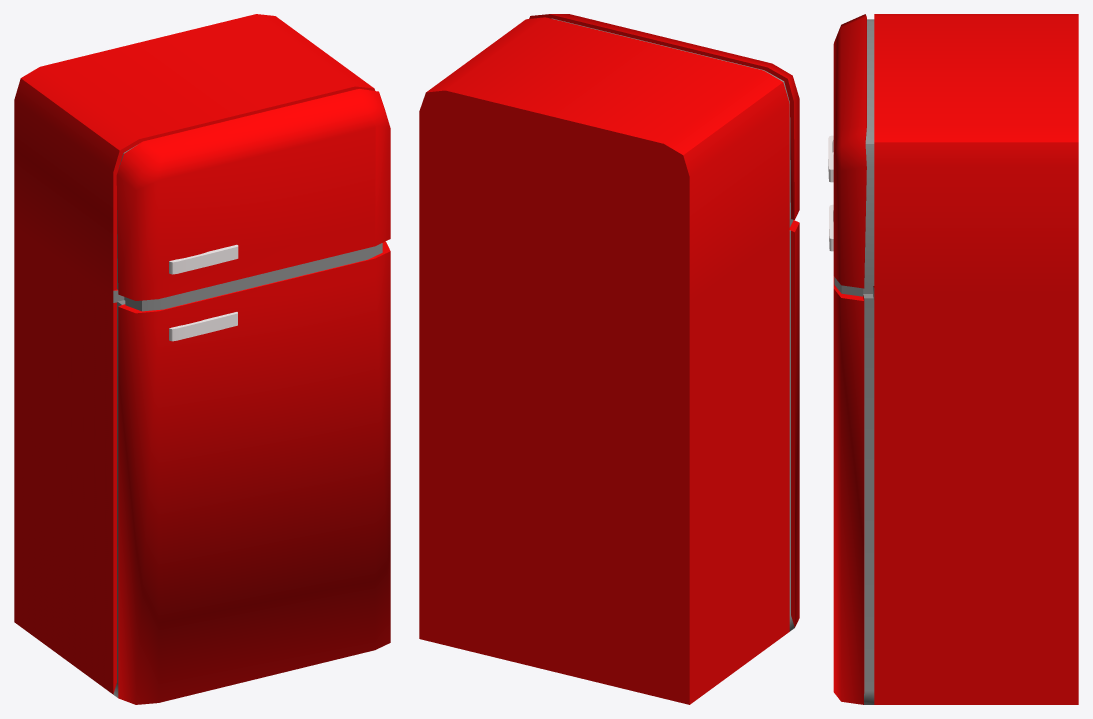
The model's file is S4_Frigo.fbx.
The picture shows the model from 3 angles, left to right: view 1: azimuth 30°, elevation 25°; view 2: azimuth 150°, elevation 25°; view 3: azimuth 270°, elevation 25°; orthographic projection. The views are drawn at different scales.
Parts seen in each view (by area): view 1: Frigo; view 2: Frigo; view 3: Frigo.
Part boxes in pixels (bbox=[...]): Frigo: bbox=[14, 14, 390, 704]; Frigo: bbox=[419, 14, 799, 704]; Frigo: bbox=[828, 14, 1078, 704].
Size of the model in its own units: 90.33 by 177 by 70.77.
